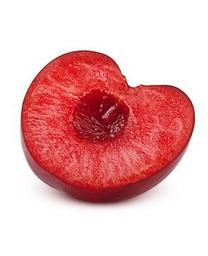cherry: (20, 49, 195, 205)
